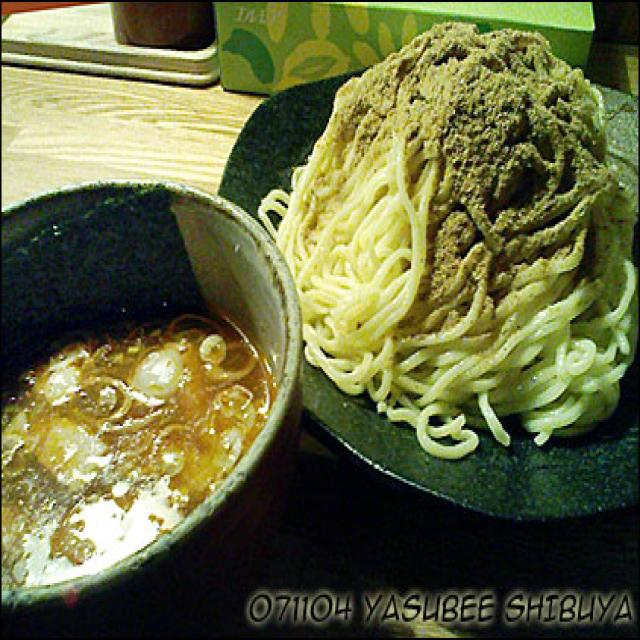面条主食: (8, 22, 637, 624)
